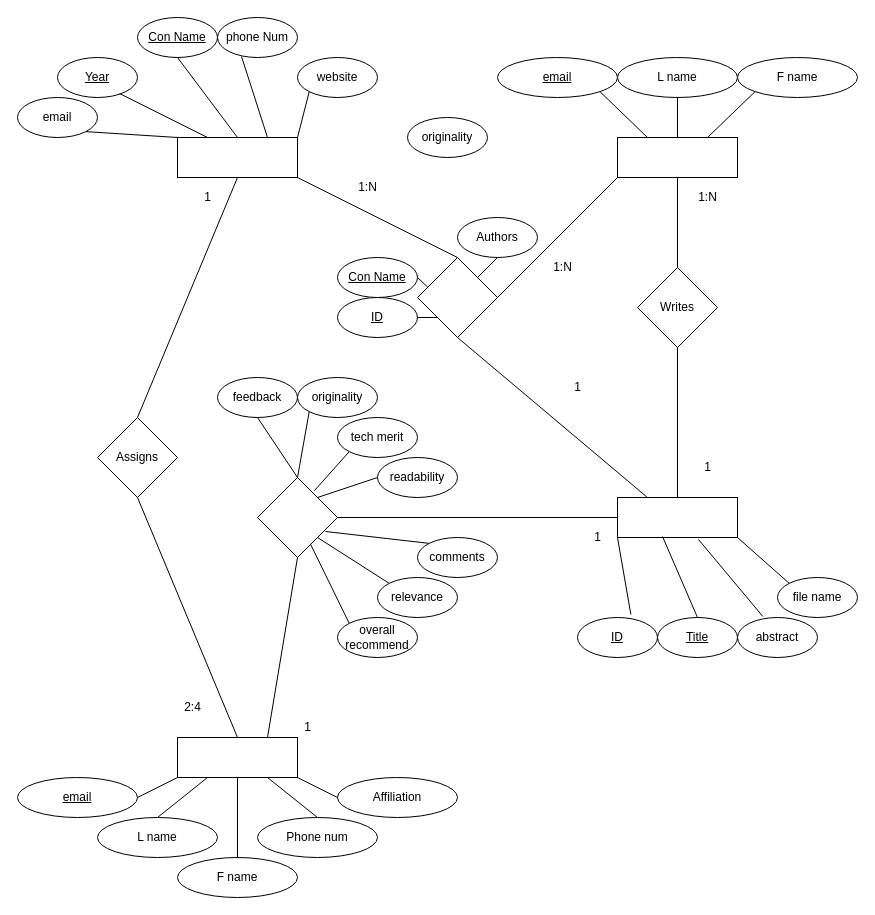
The diagram is 875 pixels wide and 915 high, and some of its shapes have lost their labels. Here are the shapes that lost their labels. From the top down, the centre of each, then its label:
(x=237, y=157): Conference
(x=677, y=157): Author
(x=457, y=297): Is submitted
(x=297, y=517): Reviews
(x=677, y=517): Paper
(x=237, y=757): Reviewers
